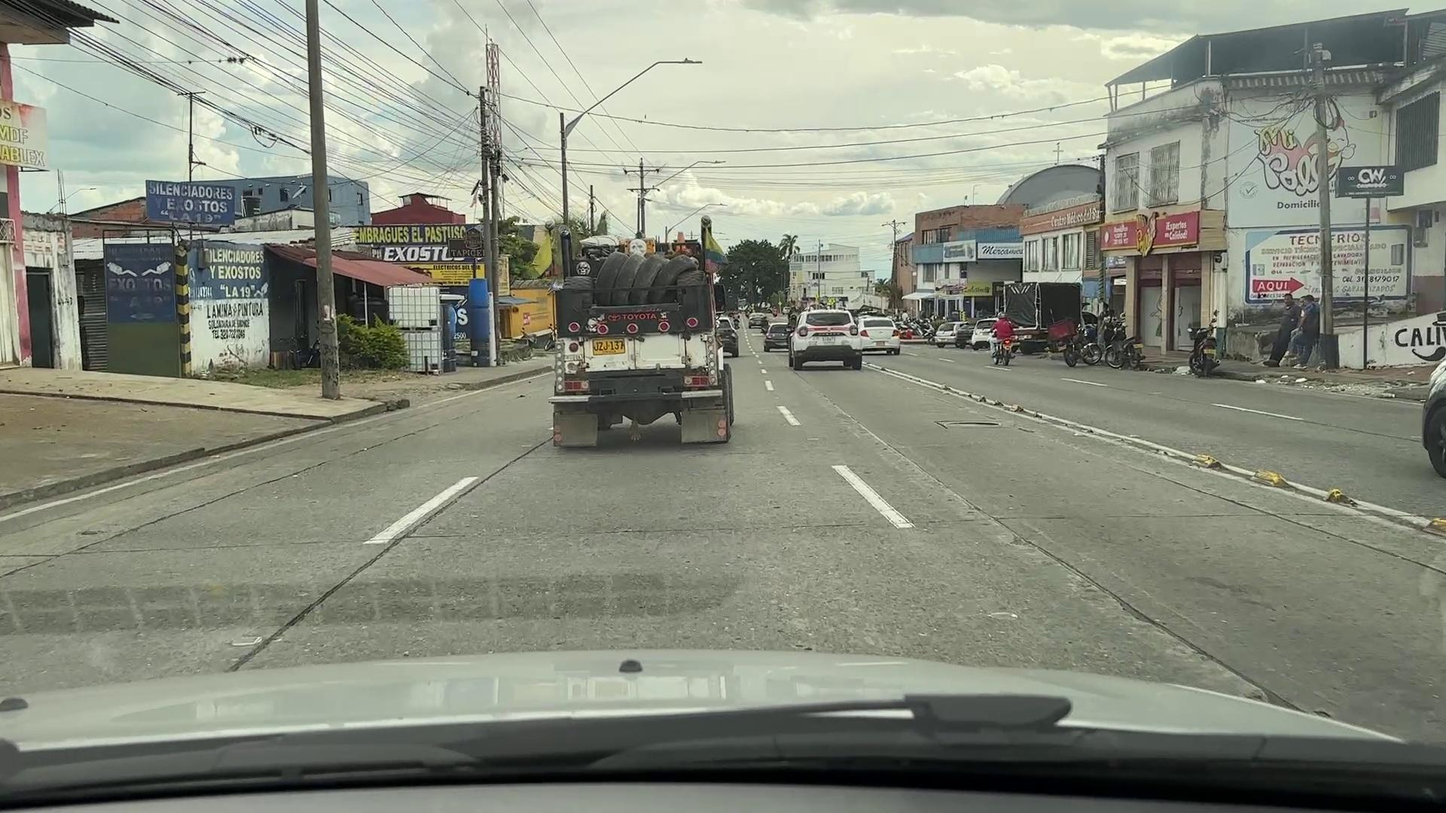registro: (946, 421, 1002, 426)
